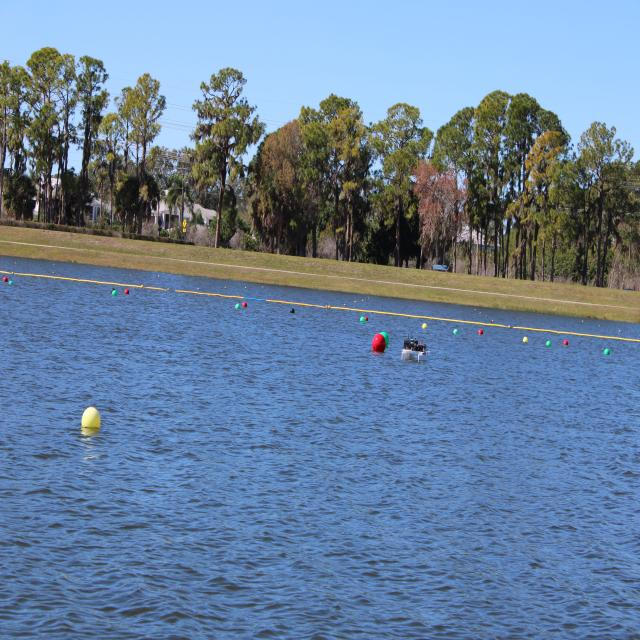green-buoy: (382, 331, 390, 346), (111, 290, 118, 296)
red-buoy: (372, 334, 386, 355), (243, 302, 249, 310), (564, 340, 569, 348)
yellow-buoy: (81, 407, 101, 431), (523, 337, 530, 345), (422, 324, 428, 332)
